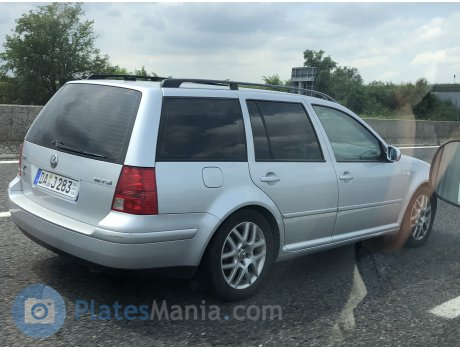License Plates: (37, 167, 74, 196)
